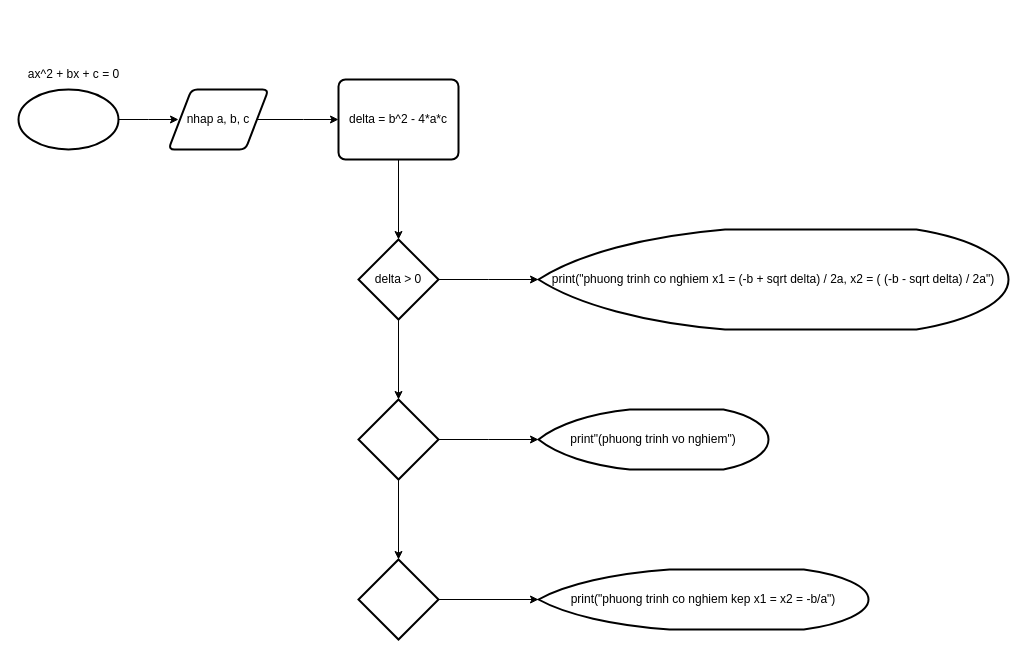
Image size: 1026x657. Some labels were removed from this diagram. Here are the shapes that lost their labels. From the top down, the centre of each, then its label:
At point (68, 119): "start".
At point (398, 439): "delta < 0".
At point (398, 599): "delta = 0".
